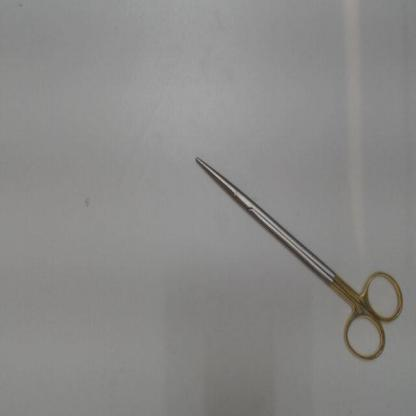7 Metzenbaum Scissors: (192, 150, 407, 368)
